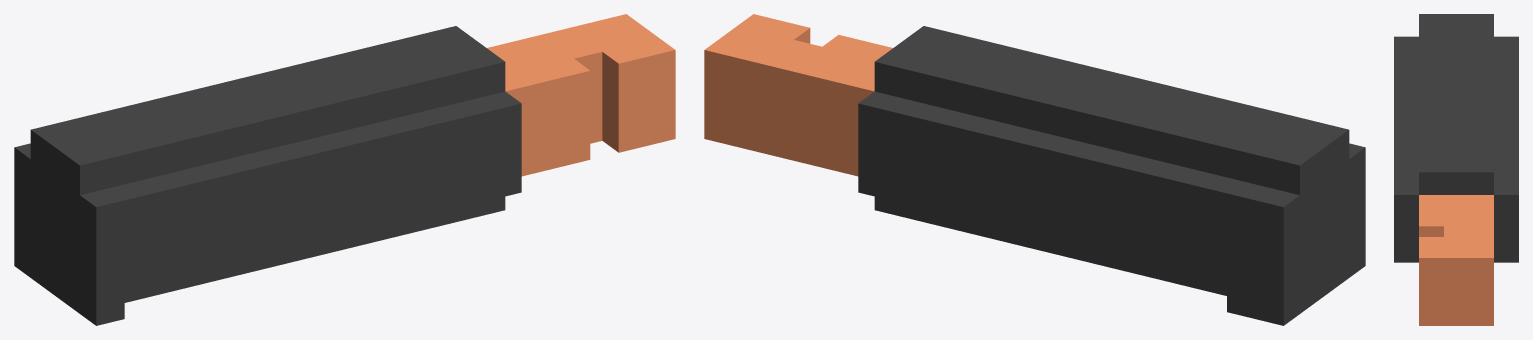
Rendered from hero_left_hand.obj.
3 renders of one model, left to right at view 1: azimuth 30°, elevation 25°; view 2: azimuth 150°, elevation 25°; view 3: azimuth 270°, elevation 25°, orthographic. The views are drawn at different scales.
Size of the model in its own units: 2.1 by 0.5 by 0.5.
1 material, 1 textured.
